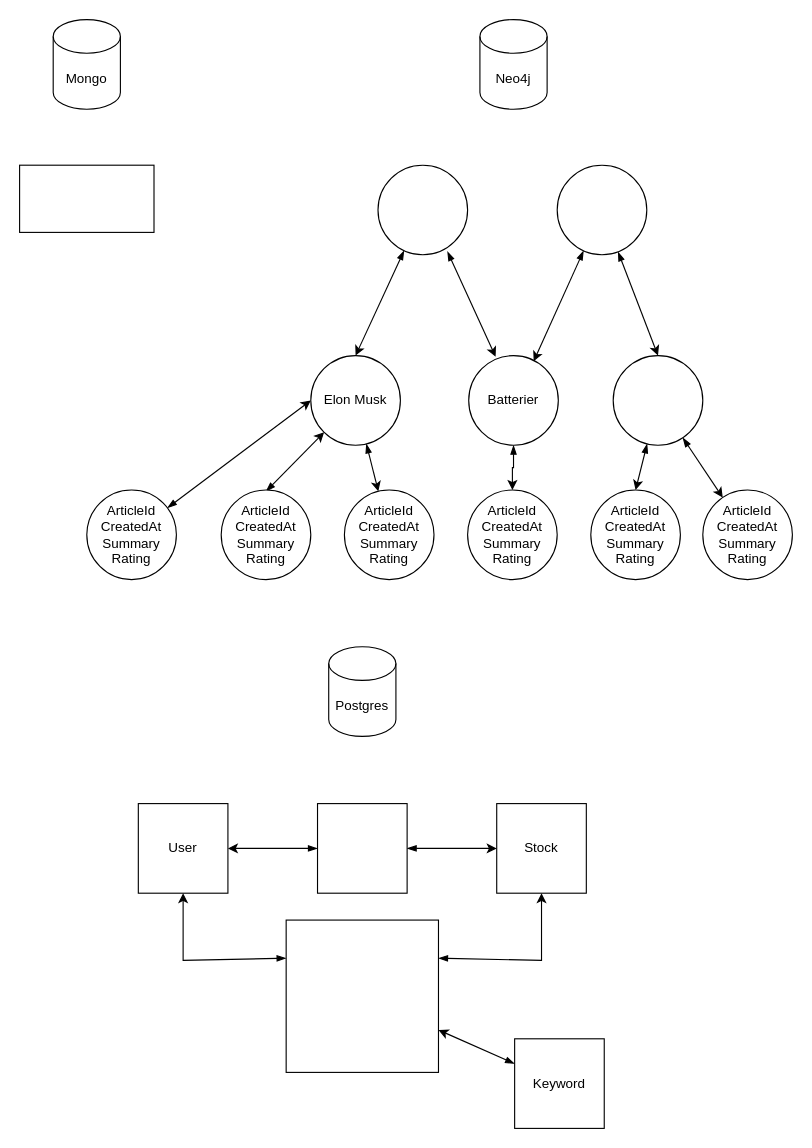
Image size: 812x1148. Some labels were removed from this diagram. The shapes that lost their labels are listed below. From the top down, each one's centre as x and y in pixels, then its label:
the point at 86,198: { article_id, content }
the point at 422,209: Tesla
the point at 601,209: BMWi
the point at 657,399: Angela Merkel
the point at 361,847: User_Stock
the point at 361,995: User_Stock_Keyword
